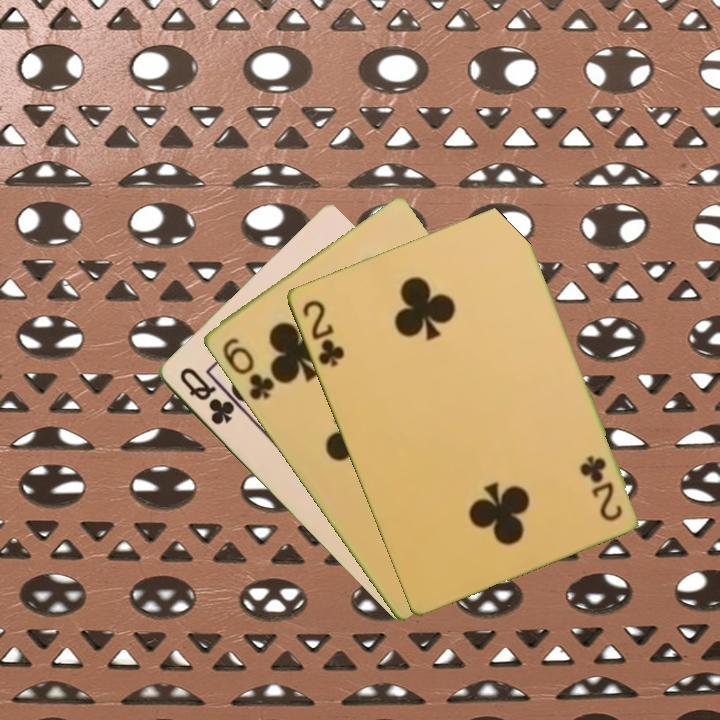2c: (298, 296, 347, 370), (577, 451, 625, 524)
6c: (218, 334, 277, 403)
Qc: (175, 364, 237, 428)
